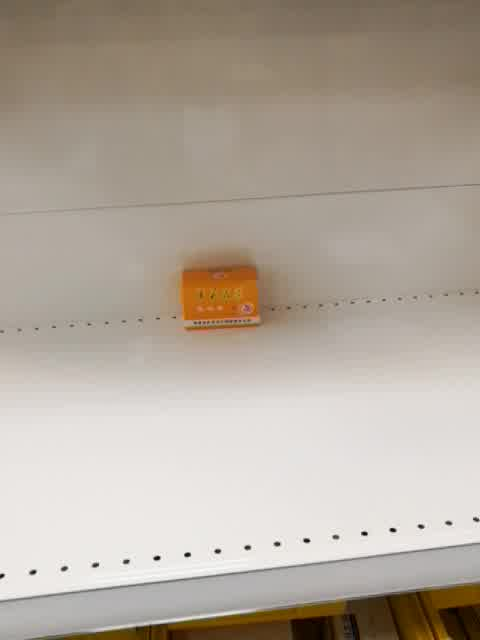jasminetea: (178, 266, 263, 332)
